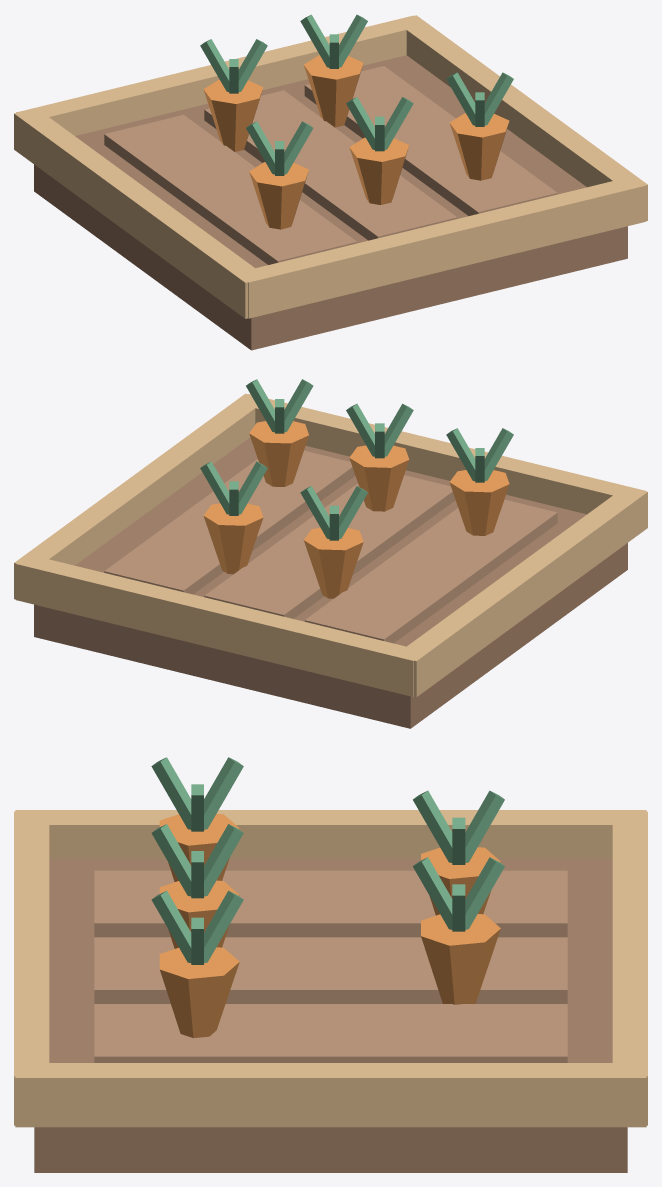
File: plot_carrot_mature.glb
3 views of the same model, one above another, from view 1: azimuth 30°, elevation 25°; view 2: azimuth 150°, elevation 25°; view 3: azimuth 270°, elevation 25° (orthographic). The views are drawn at different scales.
Visible parts, largest first — view 1: square soil bed.009, short timber edge.018, raised planting row.027, long timber edge.018, short timber edge.019, raised planting row.029, raised planting row.028, long timber edge.019, orange carrot root.008, orange carrot root.009, orange carrot root.006, orange carrot root.007 (+11 smaller); view 2: square soil bed.009, short timber edge.019, raised planting row.027, long timber edge.018, raised planting row.028, raised planting row.029, long timber edge.019, short timber edge.018, orange carrot root.008, orange carrot root.009, orange carrot root.005, orange carrot root.006 (+11 smaller); view 3: square soil bed.009, long timber edge.019, raised planting row.029, raised planting row.028, long timber edge.018, raised planting row.027, short timber edge.019, short timber edge.018, orange carrot root.009, orange carrot root.007, orange carrot root.006, orange carrot root.005 (+16 smaller).
Part boxes in pixels (x1,y1,x2,y2): square soil bed.009: (34, 55, 627, 350); short timber edge.018: (247, 181, 645, 318); raised planting row.027: (104, 114, 357, 264); long timber edge.018: (14, 108, 267, 318); short timber edge.019: (16, 15, 425, 135); raised planting row.029: (304, 66, 557, 215); raised planting row.028: (204, 90, 457, 240); long timber edge.019: (394, 15, 647, 221); orange carrot root.008: (203, 79, 263, 151); orange carrot root.009: (304, 55, 363, 127); orange carrot root.006: (349, 137, 409, 204); orange carrot root.007: (449, 113, 509, 180); square soil bed.009: (34, 437, 627, 728); short timber edge.019: (16, 559, 421, 696); raised planting row.027: (304, 499, 557, 643); long timber edge.018: (397, 486, 647, 697); raised planting row.028: (204, 475, 455, 618); raised planting row.029: (104, 450, 355, 594); long timber edge.019: (14, 393, 257, 599); short timber edge.018: (236, 394, 645, 514); orange carrot root.008: (303, 527, 363, 598); orange carrot root.009: (203, 503, 263, 574); orange carrot root.005: (449, 470, 509, 535); orange carrot root.006: (349, 445, 409, 511); square soil bed.009: (34, 859, 627, 1172); long timber edge.019: (15, 1063, 646, 1127); raised planting row.029: (94, 1004, 567, 1062); raised planting row.028: (94, 937, 567, 1003); long timber edge.018: (15, 810, 646, 859); raised planting row.027: (94, 870, 567, 937); short timber edge.019: (612, 811, 647, 1125); short timber edge.018: (14, 811, 49, 1125); orange carrot root.009: (421, 914, 500, 1004); orange carrot root.007: (159, 947, 239, 1038); orange carrot root.006: (159, 880, 239, 948); orange carrot root.005: (159, 814, 239, 881).
Bounding box in the file's own units: 2.33 × 0.864 × 2.33.
